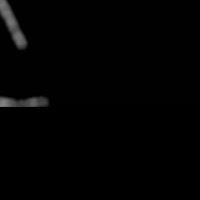chromosome: (0, 0, 27, 47), (0, 96, 48, 108)
